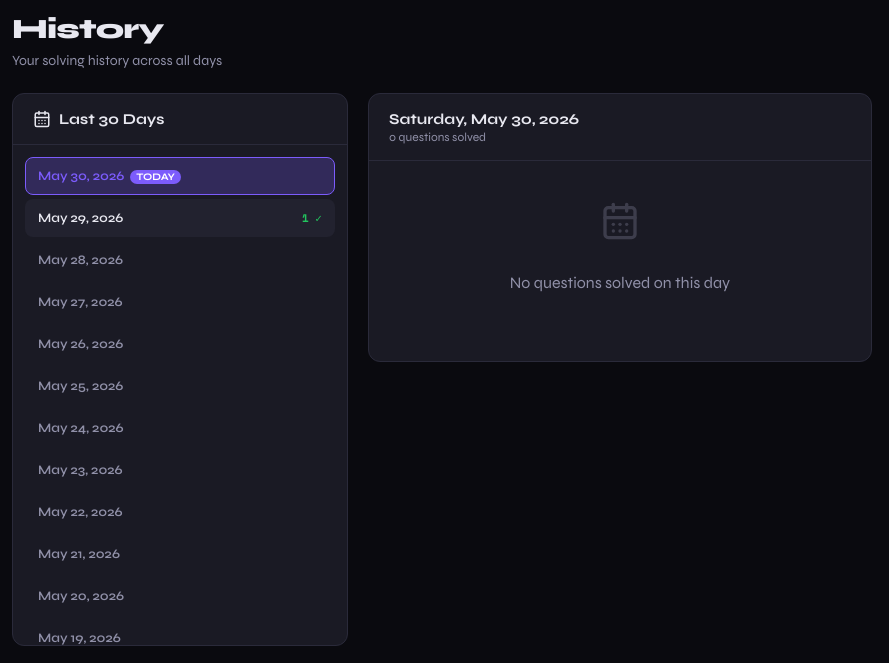
Test case: HistoryPage › highlights selected date and shows questions
Click the text "May 29, 2026" at (81, 218), box [38,210,123,226]
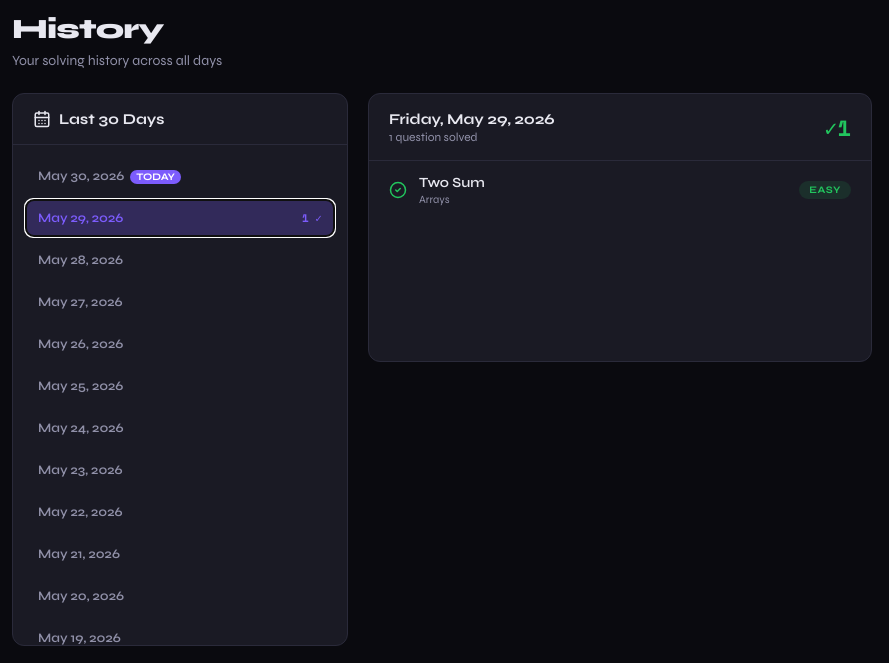
Expected: the text "Two Sum" is shown, [419,174,485,191]
Expected: the text "1 question solved" is shown, [389,130,478,144]
